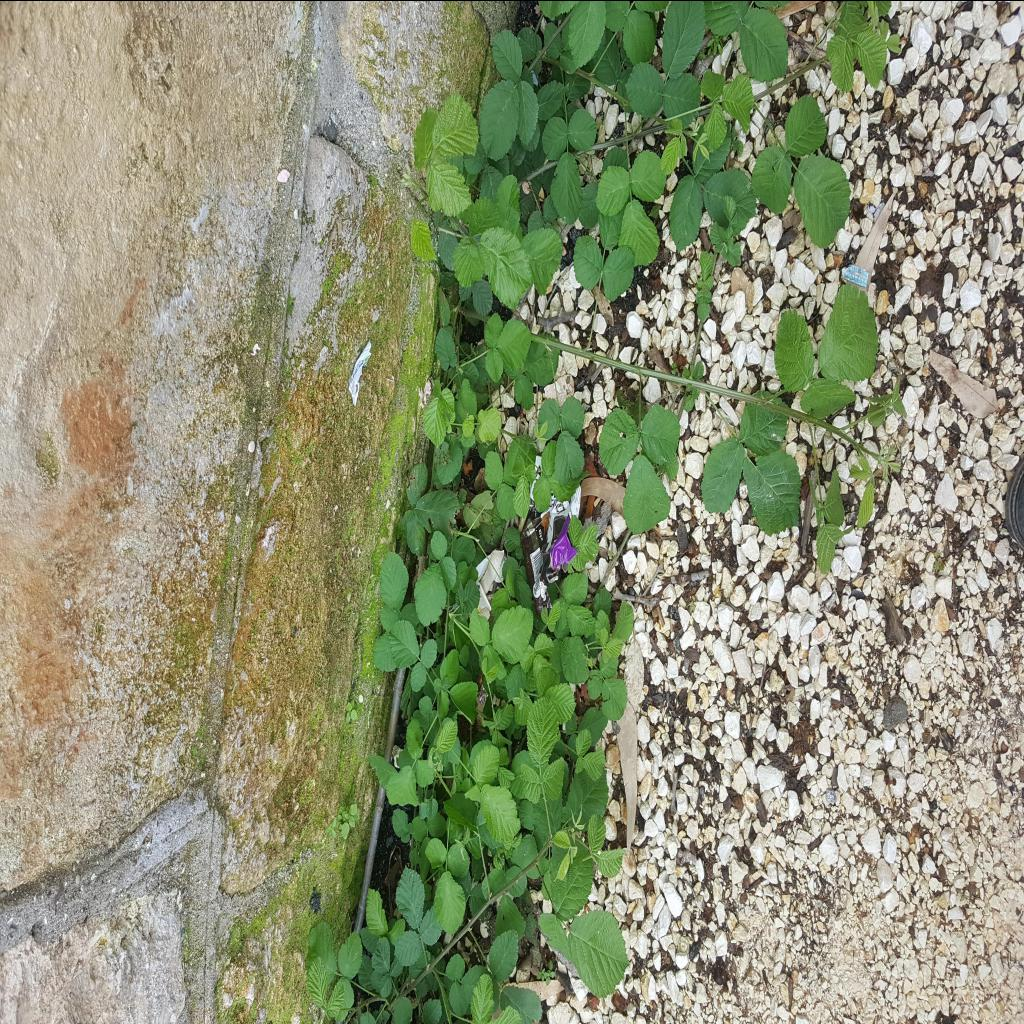Other plastic: (520, 454, 580, 614), (476, 546, 508, 614), (841, 264, 869, 288), (478, 676, 489, 704)
Unlabeled litter: (348, 340, 372, 404)
